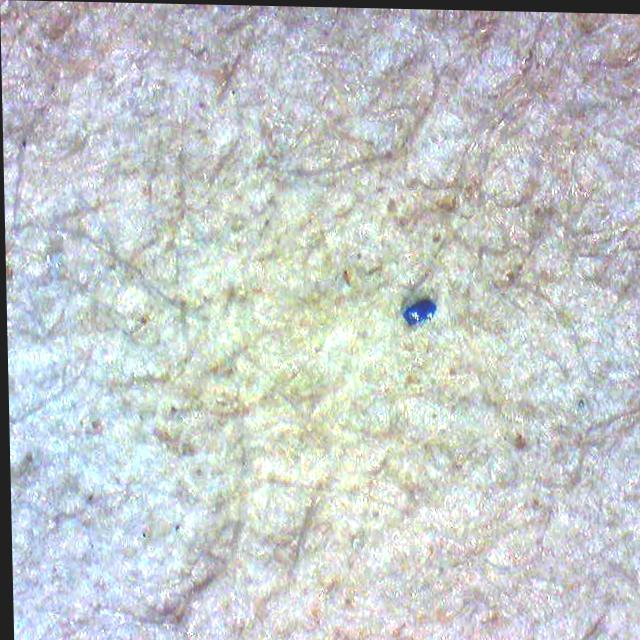microplastic: (401, 297, 436, 324)
